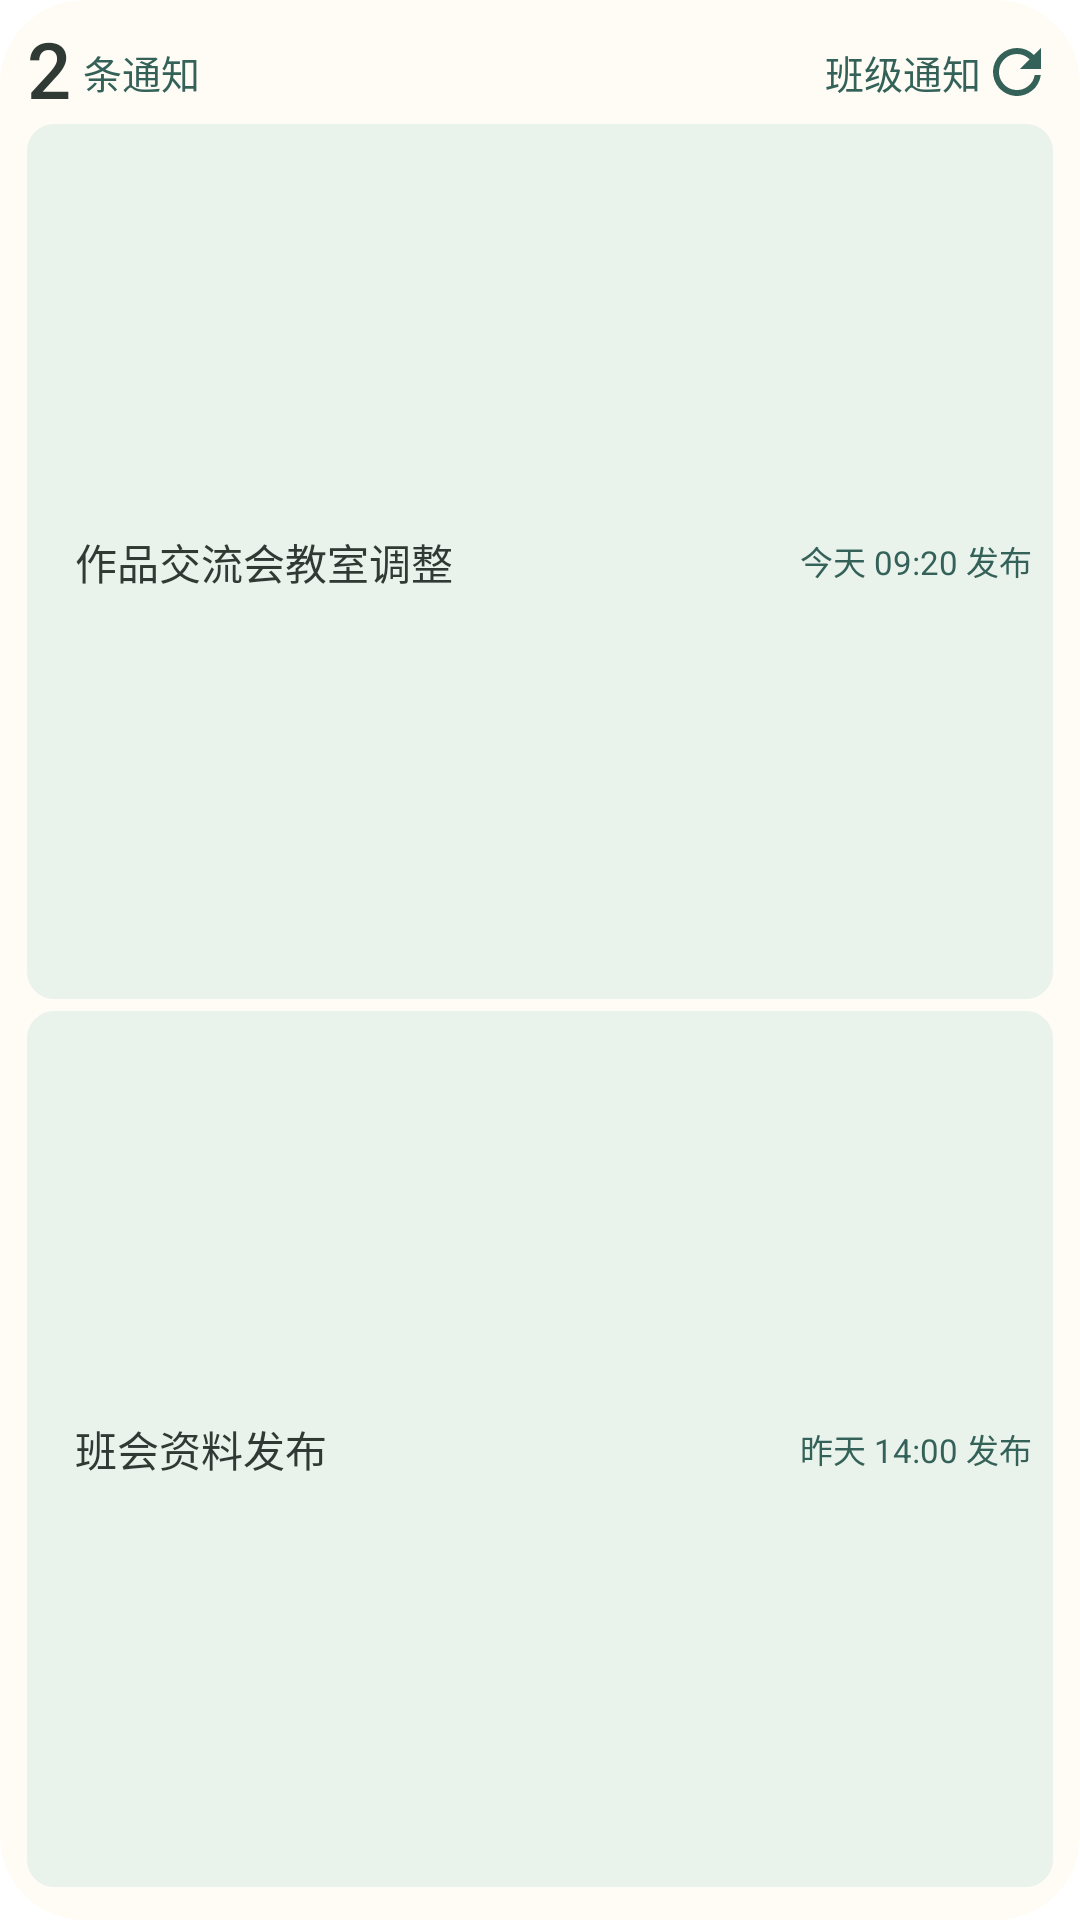

Icon click points for this 1080w x 1920h phone screenshot, format (x,y):
widget refresh: (1017,72)
